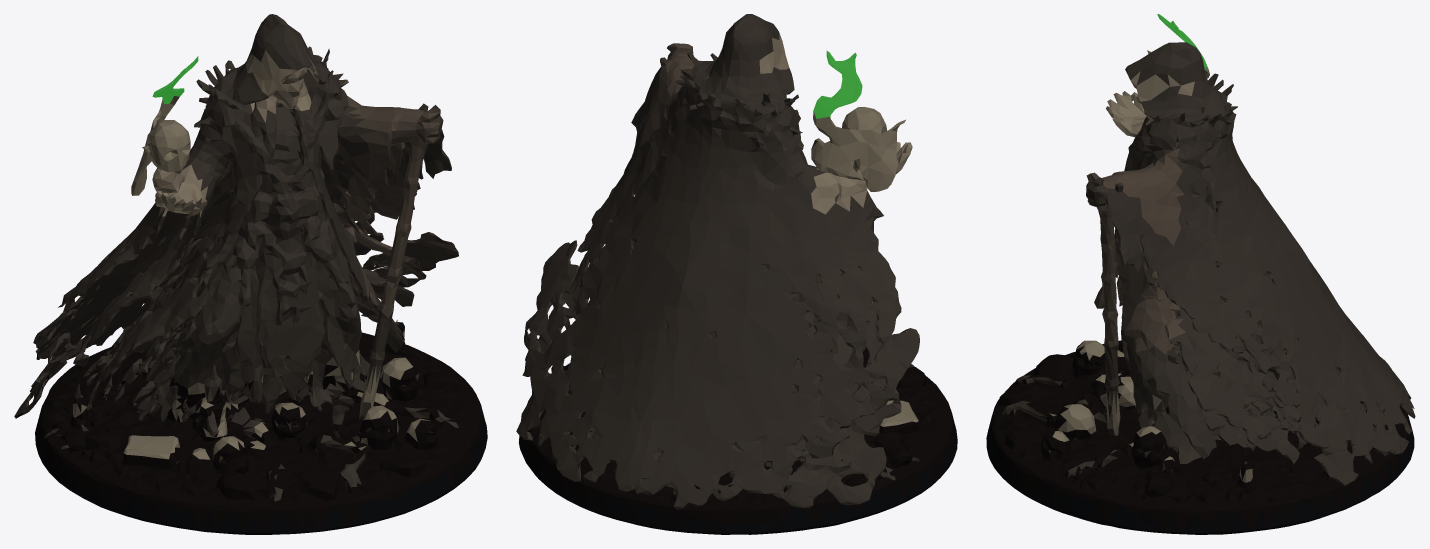
The model's file is necromante.glb.
The picture shows the model from 3 angles, left to right: view 1: azimuth 30°, elevation 25°; view 2: azimuth 150°, elevation 25°; view 3: azimuth 270°, elevation 25°; orthographic projection. The views are drawn at different scales.
Visible parts, largest first — view 1: tmp7xtc2tzy.ply; view 2: tmp7xtc2tzy.ply; view 3: tmp7xtc2tzy.ply.
Part boxes in pixels (box(x1,y1,x2,y2)): tmp7xtc2tzy.ply: box(14, 14, 487, 534); tmp7xtc2tzy.ply: box(516, 14, 957, 534); tmp7xtc2tzy.ply: box(986, 14, 1415, 534).
Bounding box in the file's own units: 1.89 × 1.96 × 1.88.
